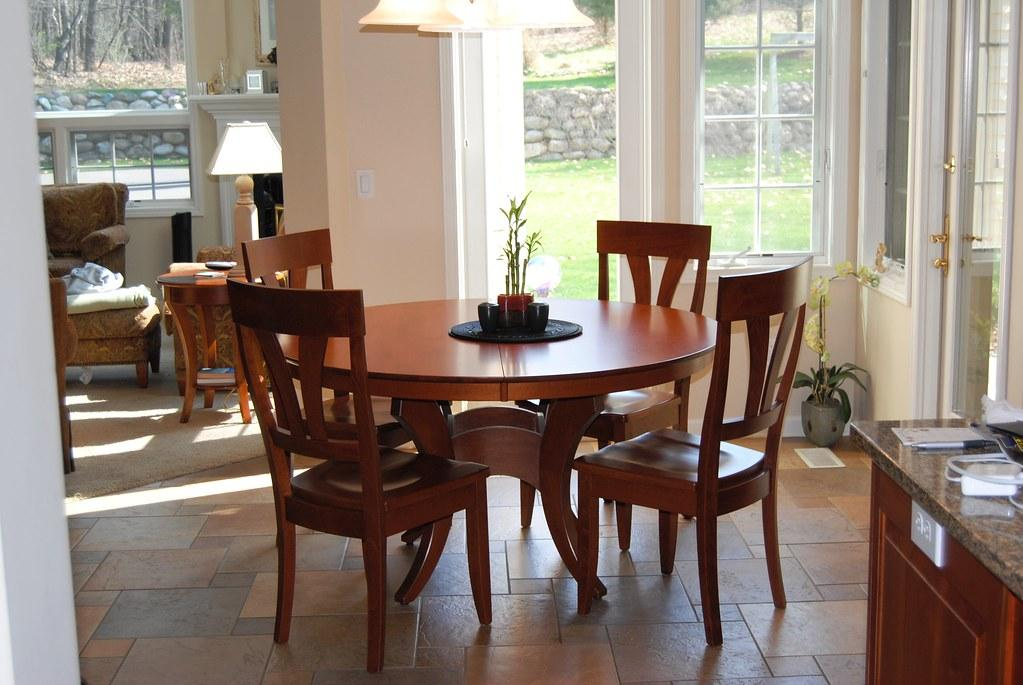table: (273, 295, 720, 616), (156, 266, 287, 425)
